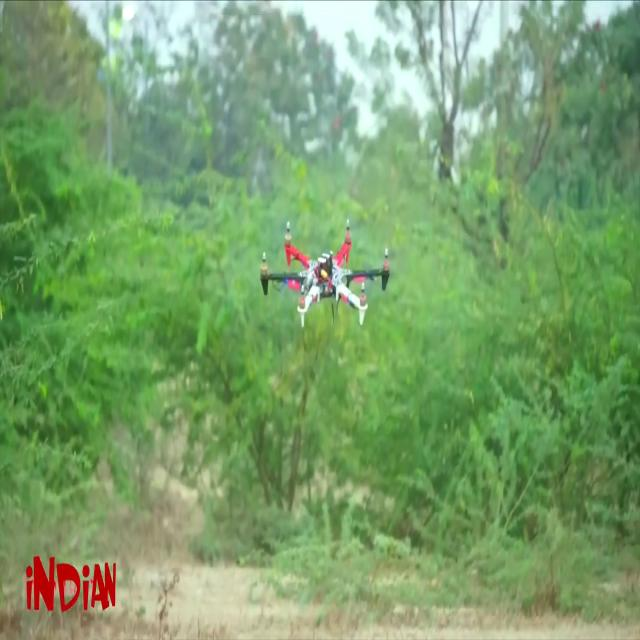drone: (236, 212, 412, 343)
